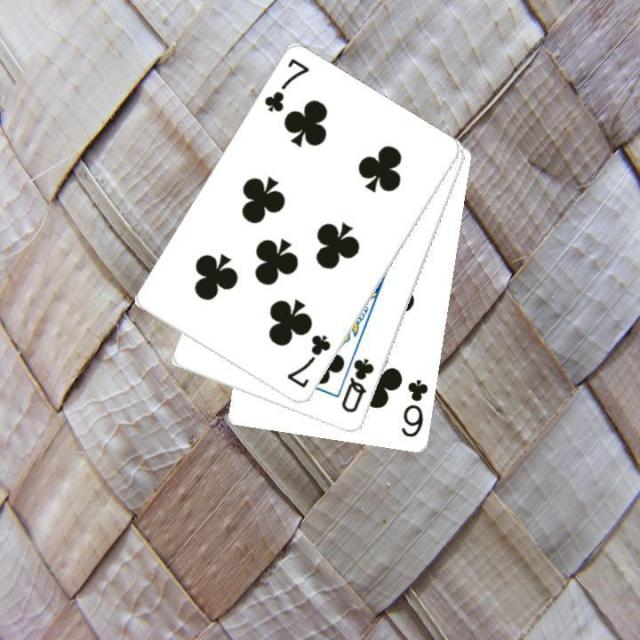6C: (398, 376, 430, 440)
7C: (261, 54, 311, 115), (283, 331, 333, 390)
QC: (337, 354, 376, 415)
